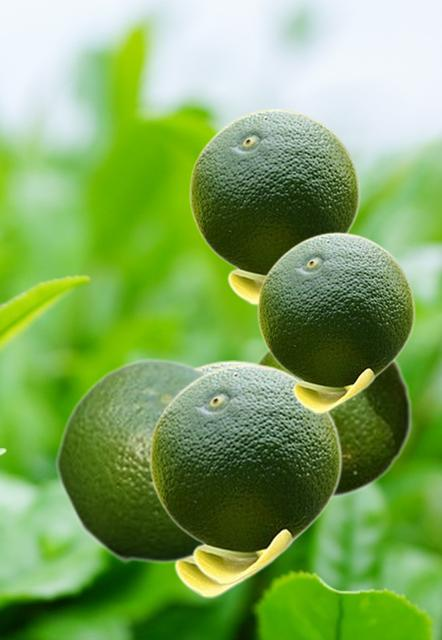calamansi: (149, 363, 341, 584), (189, 108, 359, 304), (54, 356, 209, 563), (171, 360, 293, 597), (257, 232, 414, 413), (253, 348, 412, 497)
